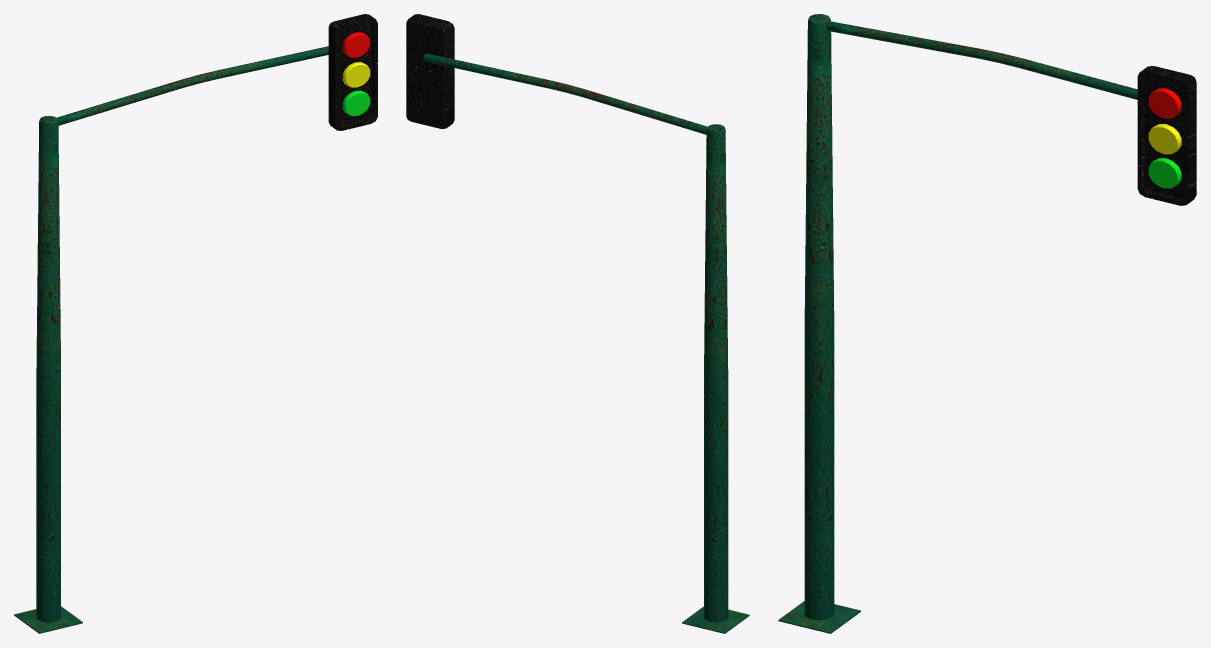
The model's file is semaforo.fbx.
The picture shows the model from 3 angles, left to right: view 1: azimuth 30°, elevation 25°; view 2: azimuth 150°, elevation 25°; view 3: azimuth 330°, elevation 25°; orthographic projection. The views are drawn at different scales.
Parts seen in each view (by area): view 1: Cylinder.001; view 2: Cylinder.001; view 3: Cylinder.001.
Part boxes in pixels (bbox=[...]): Cylinder.001: bbox=[14, 14, 377, 633]; Cylinder.001: bbox=[406, 14, 749, 633]; Cylinder.001: bbox=[778, 14, 1196, 633].
Bounding box in the file's own units: 125 × 187 × 16.05.
1 material, 1 textured.
